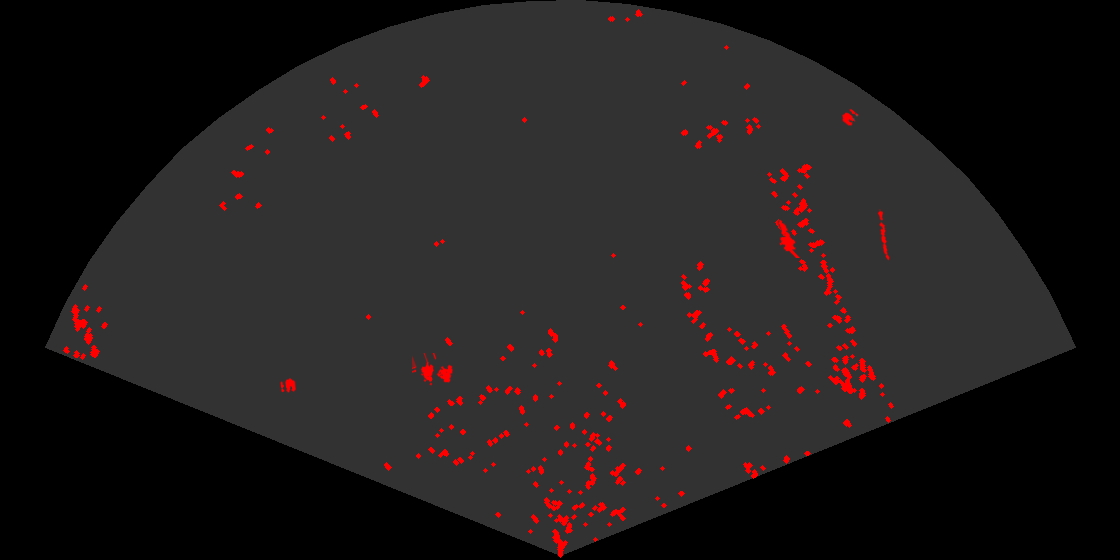ball: (841, 107, 860, 127), (279, 377, 298, 394)
cage: (412, 353, 454, 387)
chain: (876, 209, 891, 261)
frogman: (777, 218, 802, 258)
